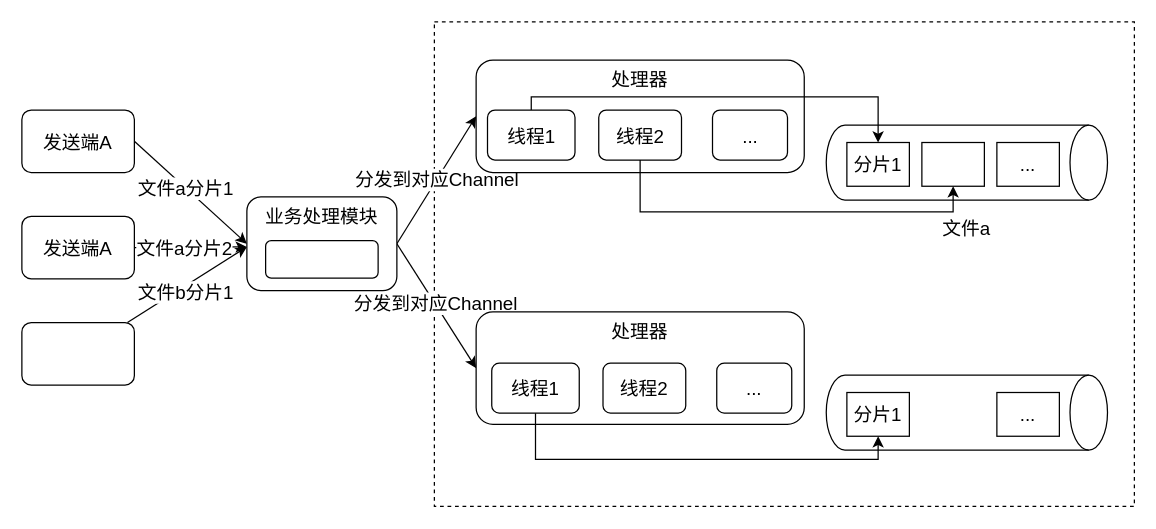
The diagram is 1156 pixels wide and 529 high, and some of its shapes have lost their labels. The shapes that lost their labels are listed below. From the top down, each one's centre as x and y in pixels, then its label:
(952,163): 分片2
(321,258): 事件处理
(77,353): 发送端C
(966,412): 文件b
